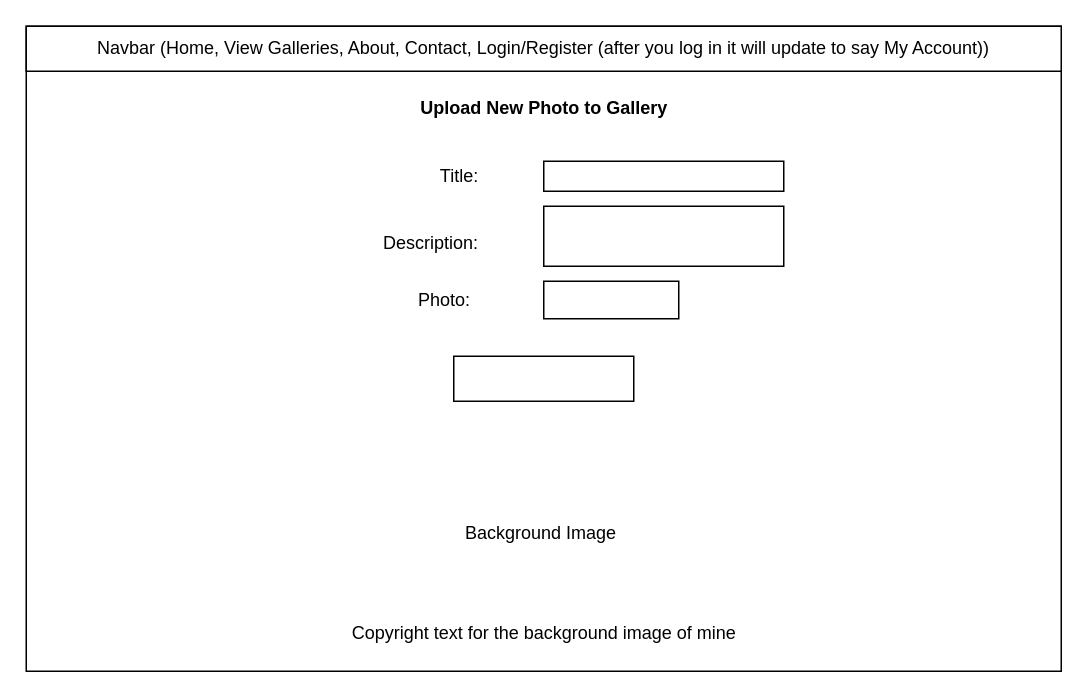
Some shapes in this 1088 by 698 pixel diagram are drawn without their labels. Here are the shapes that lost their labels. From the top down, the box of each, then its label:
(542, 280, 679, 319): Choose File
(452, 355, 634, 401): Upload Photo
